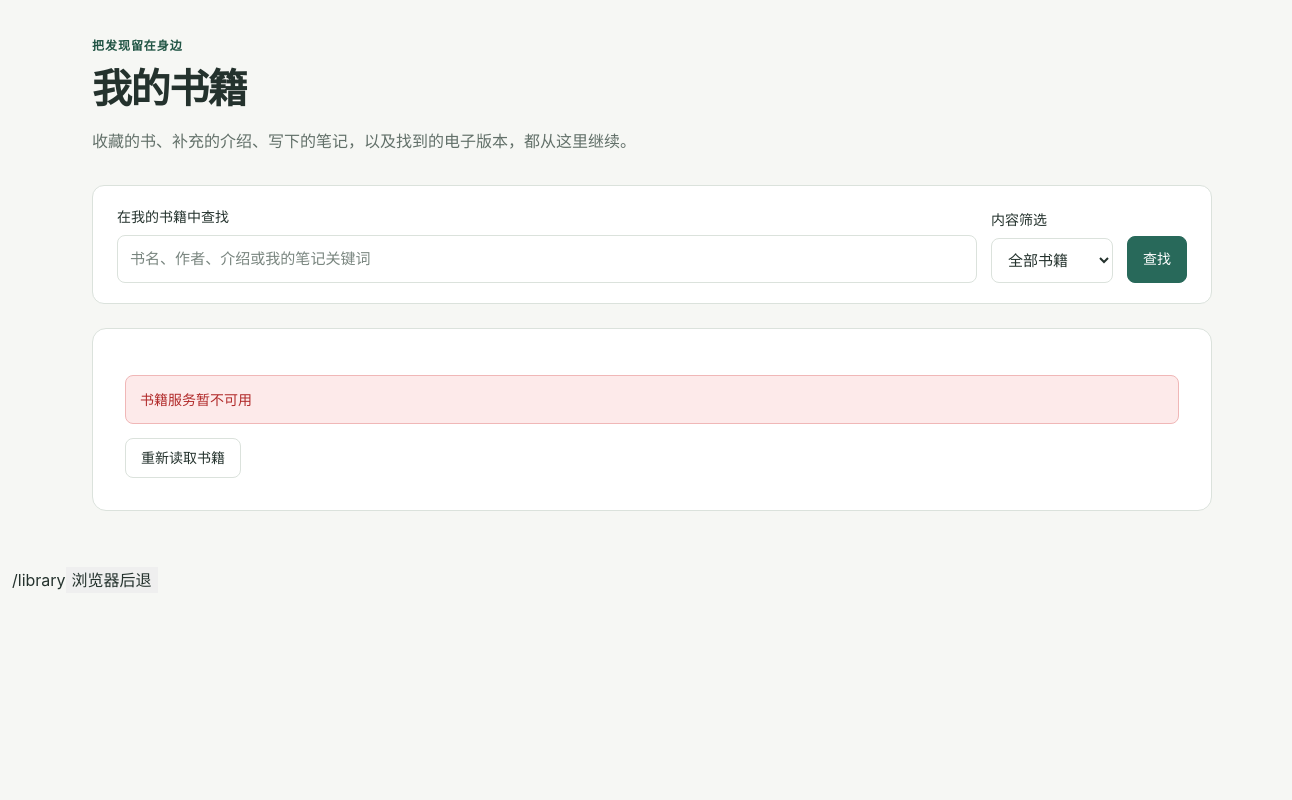
it: my books collection › distinguishes a failed read from an empty collection and retries
The image size is (1292, 800).
Expected: the message "书籍服务暂不可用" is shown, [125,375,1179,424]
Expected: the text "从一本想继续读的书开始" is not shown
Click the button "重新读取书籍": [183, 458] box [125,438,241,478]
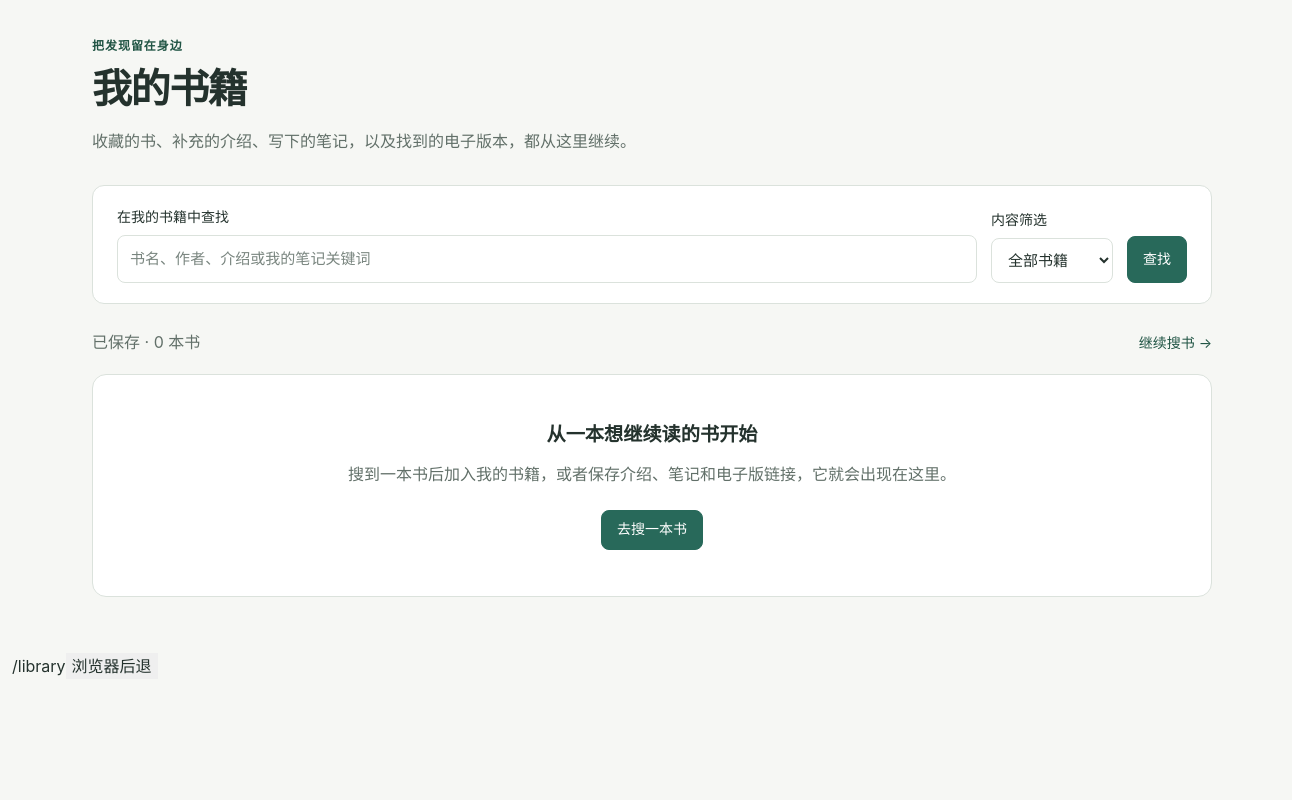
Now the link "去搜一本书" is shown, box [601,510,703,550]
